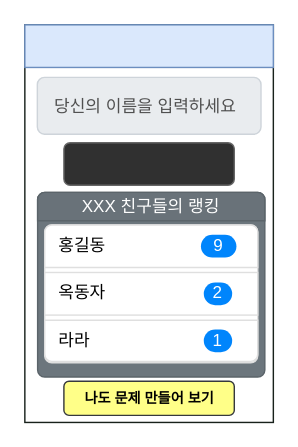
Image size: 298x447. Some labels were removed from this diagram. Each missing label, with the box of its shape:
XXX 알아보기: (62, 141, 234, 185)
넌 XXX을/를 알아?: (23, 23, 273, 67)
